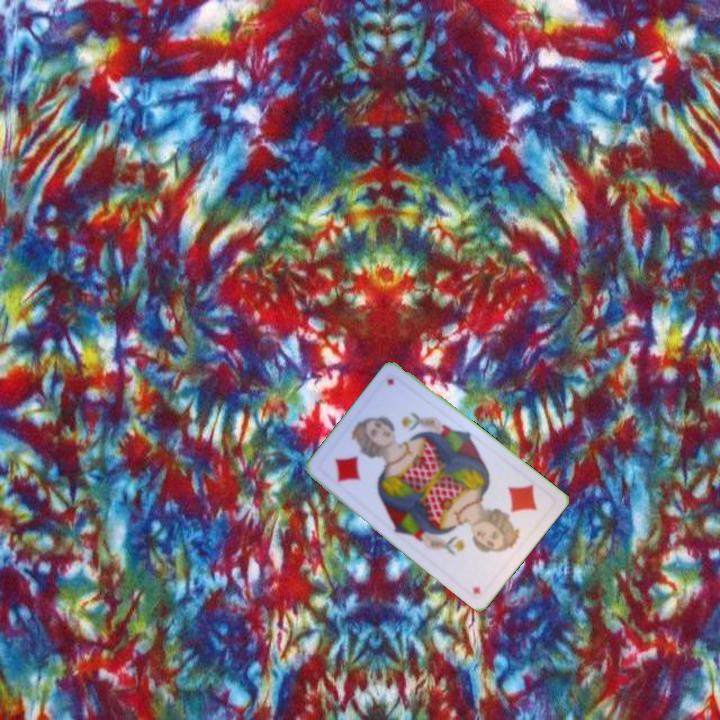d_q.png: (314, 419, 399, 505), (472, 466, 557, 552)
